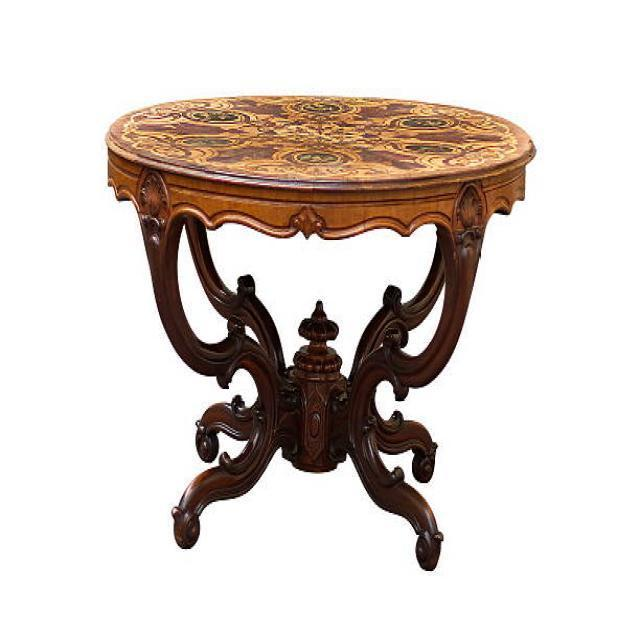table: (104, 93, 536, 572)
